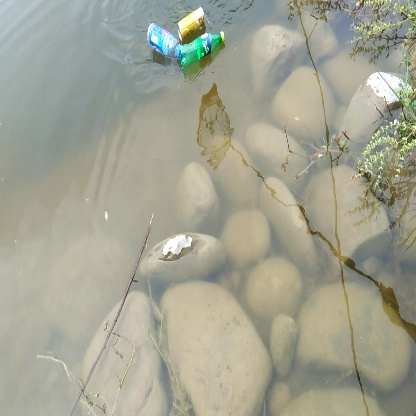bottle: (183, 32, 234, 62), (145, 22, 180, 61), (175, 6, 209, 39)
